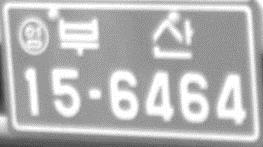-: (85, 87, 104, 102)
1: (22, 67, 44, 118)
4: (215, 72, 248, 126), (143, 70, 174, 123)
5: (50, 66, 82, 118)
6: (179, 70, 210, 124), (108, 69, 139, 120)
부산_D: (56, 15, 195, 61)
영: (18, 17, 50, 57)
